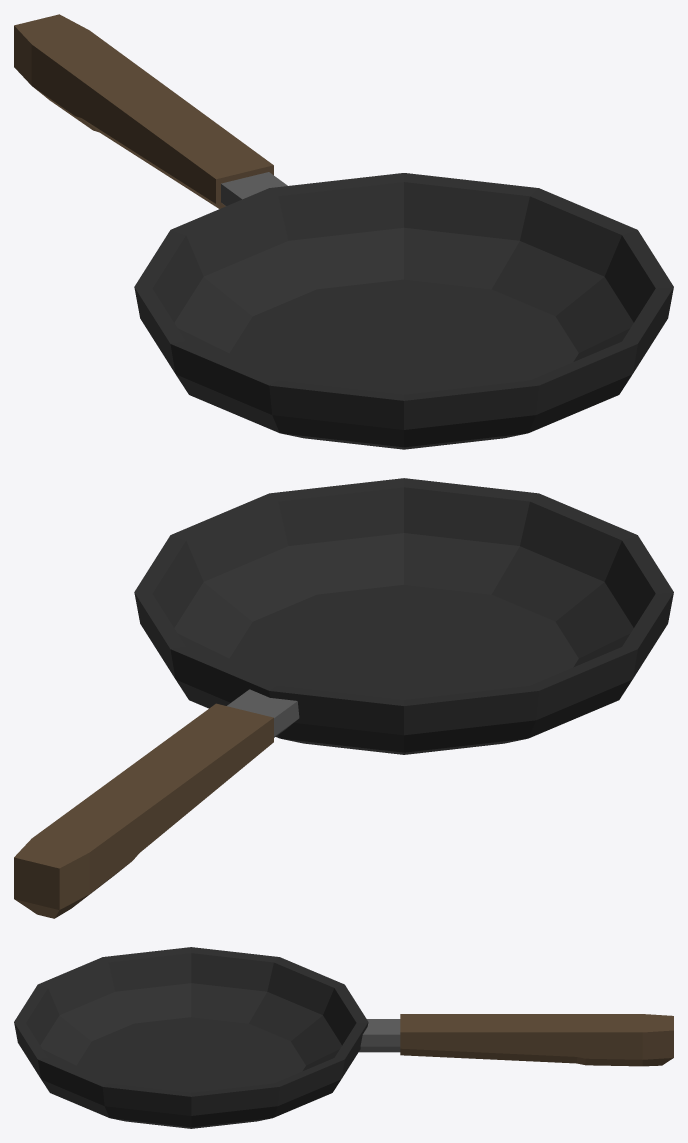
The model's file is pan_small.glb.
3 renders of one model, top to bottom at view 1: azimuth 30°, elevation 25°; view 2: azimuth 150°, elevation 25°; view 3: azimuth 270°, elevation 25°, orthographic. The views are drawn at different scales.
Visible parts, largest first — view 1: Pan_Small; view 2: Pan_Small; view 3: Pan_Small.
Boxes of the visible parts, x1,y1,x2,y2 form: Pan_Small: [14, 14, 673, 449]; Pan_Small: [14, 478, 673, 918]; Pan_Small: [14, 947, 673, 1128].
Size of the model in its own units: 1.17 by 0.2316 by 2.19.
